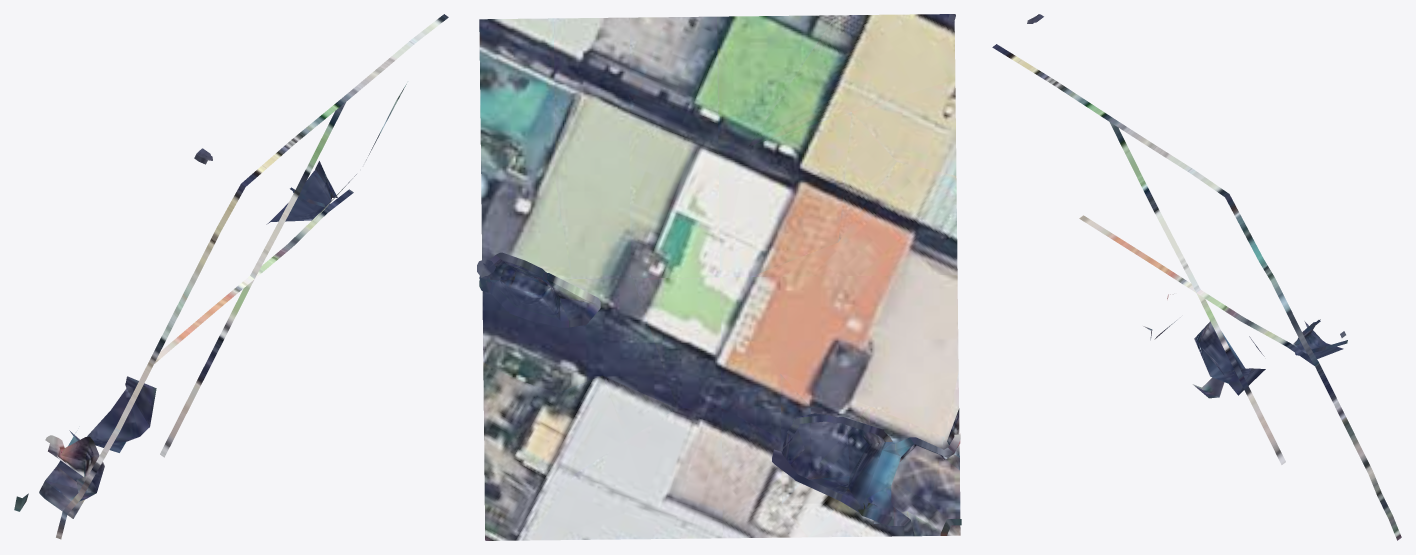
3 views of the same model, side by side, from view 1: azimuth 30°, elevation 25°; view 2: azimuth 150°, elevation 25°; view 3: azimuth 270°, elevation 25° (orthographic). The views are drawn at different scales.
Bounding box in the file's own units: 40.09 × 36.3 × 32.91.
1 material, 1 textured.
